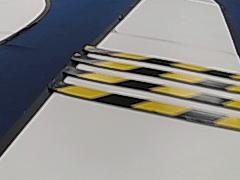bump: (49, 44, 239, 129)
